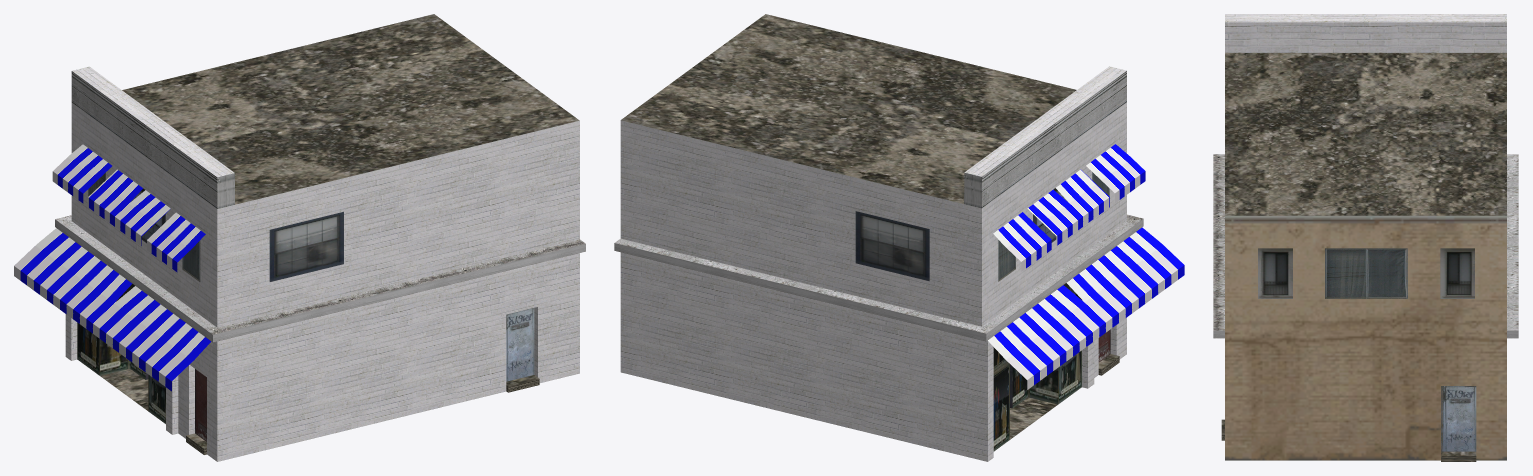
Rendered from sw_shopflat01.obj.
3 views of the same model, side by side, from view 1: azimuth 30°, elevation 25°; view 2: azimuth 150°, elevation 25°; view 3: azimuth 270°, elevation 25° (orthographic). The views are drawn at different scales.
Visible parts, largest first — view 1: sw_shopflat01; view 2: sw_shopflat01; view 3: sw_shopflat01.
Boxes of the visible parts, x1,y1,x2,y2 form: sw_shopflat01: (14, 14, 585, 461); sw_shopflat01: (614, 14, 1184, 461); sw_shopflat01: (1213, 14, 1518, 461).
Bounding box in the file's own units: 13.81 × 9 × 9.05.
Materials: 11 (11 with a texture image).
